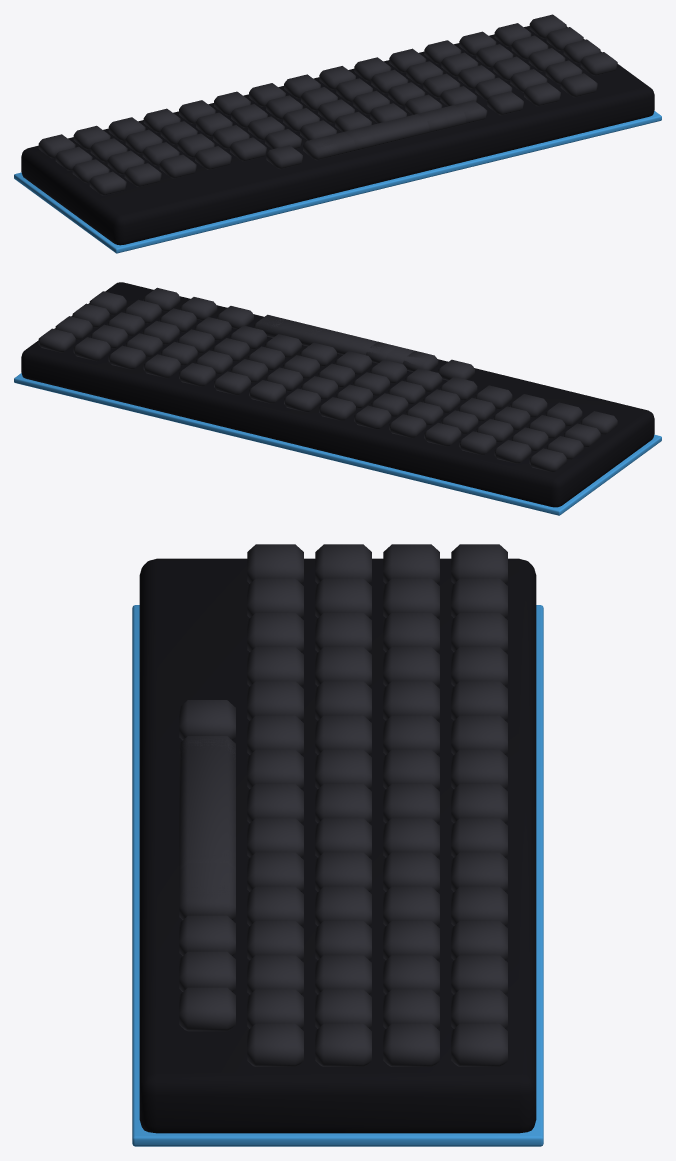
Rendered from keyboard.glb.
The picture shows the model from 3 angles, top to bottom: view 1: azimuth 30°, elevation 25°; view 2: azimuth 150°, elevation 25°; view 3: azimuth 270°, elevation 25°; orthographic projection. The views are drawn at different scales.
Visible parts, largest first — view 1: keyboard; view 2: keyboard; view 3: keyboard.
Part boxes in pixels (x1,y1,x2,y2): keyboard: [14, 14, 661, 253]; keyboard: [14, 282, 661, 515]; keyboard: [132, 544, 543, 1146].
Bounding box in the file's own units: 0.445 × 0.034 × 0.145.
